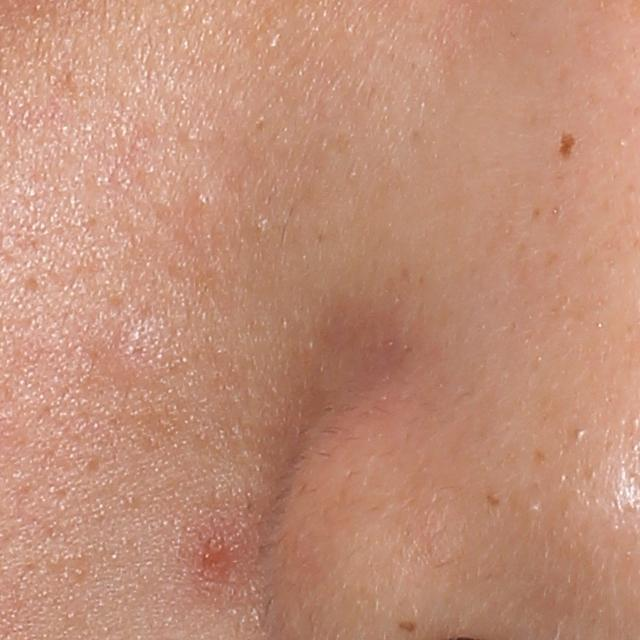comedo: (195, 190, 217, 211)
nevus: (556, 130, 577, 163), (397, 619, 419, 635)
